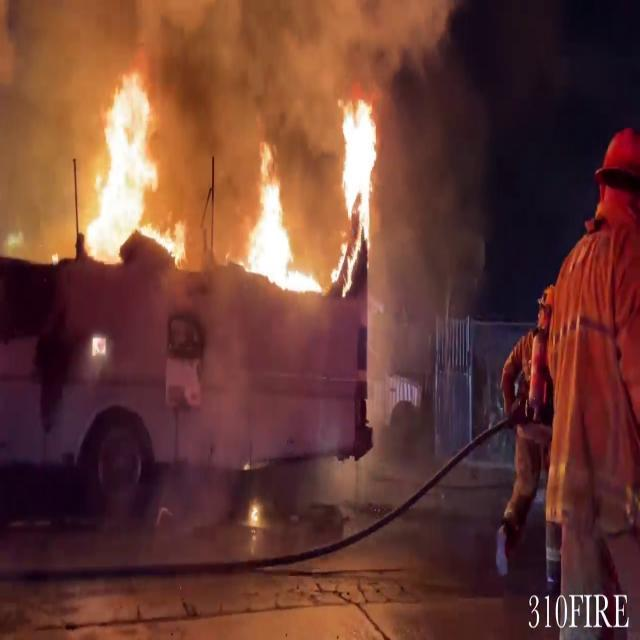Fire: (69, 70, 189, 280), (237, 152, 323, 302), (332, 93, 383, 272)
Smoke: (2, 0, 464, 143), (159, 0, 466, 142)
